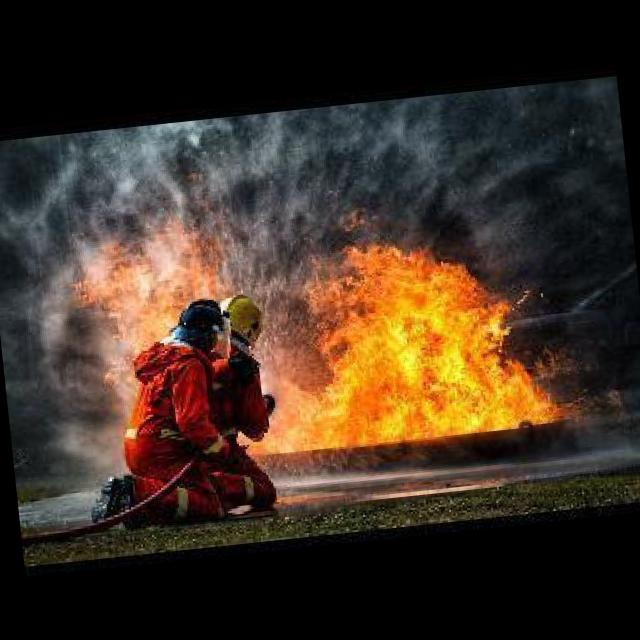Fire: (258, 220, 568, 453), (72, 206, 230, 327)
